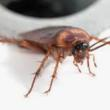cockroach: (15, 25, 94, 66)
